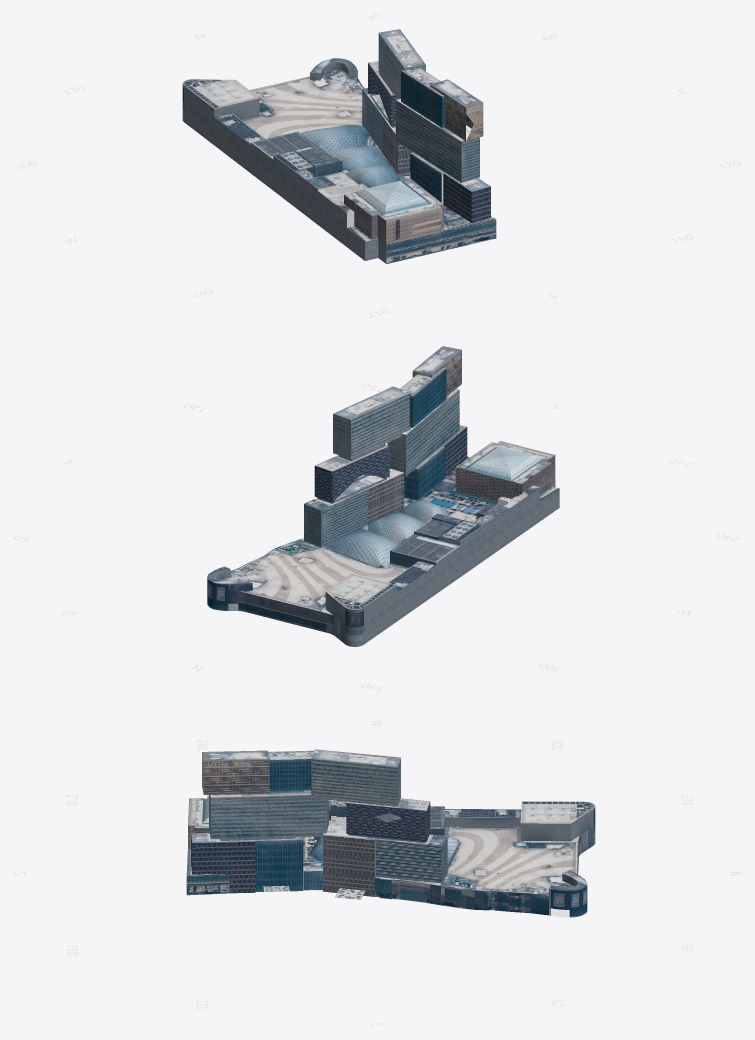
File: mgm.glb
The picture shows the model from 3 angles, top to bottom: view 1: azimuth 30°, elevation 25°; view 2: azimuth 150°, elevation 25°; view 3: azimuth 270°, elevation 25°; orthographic projection.
Parts seen in each view (by area): view 1: main building, Layer 02; view 2: main building, Layer 02; view 3: main building, Layer 02.
Part boxes in pixels (x1,y1,x2,y2): main building: [14, 14, 740, 317]; Layer 02: [251, 125, 401, 227]; main building: [14, 346, 740, 691]; Layer 02: [325, 485, 540, 568]; main building: [14, 720, 740, 1025]; Layer 02: [306, 800, 459, 862].
Size of the model in its own units: 709 by 143 by 713.
Materials: 77 (74 with a texture image).
